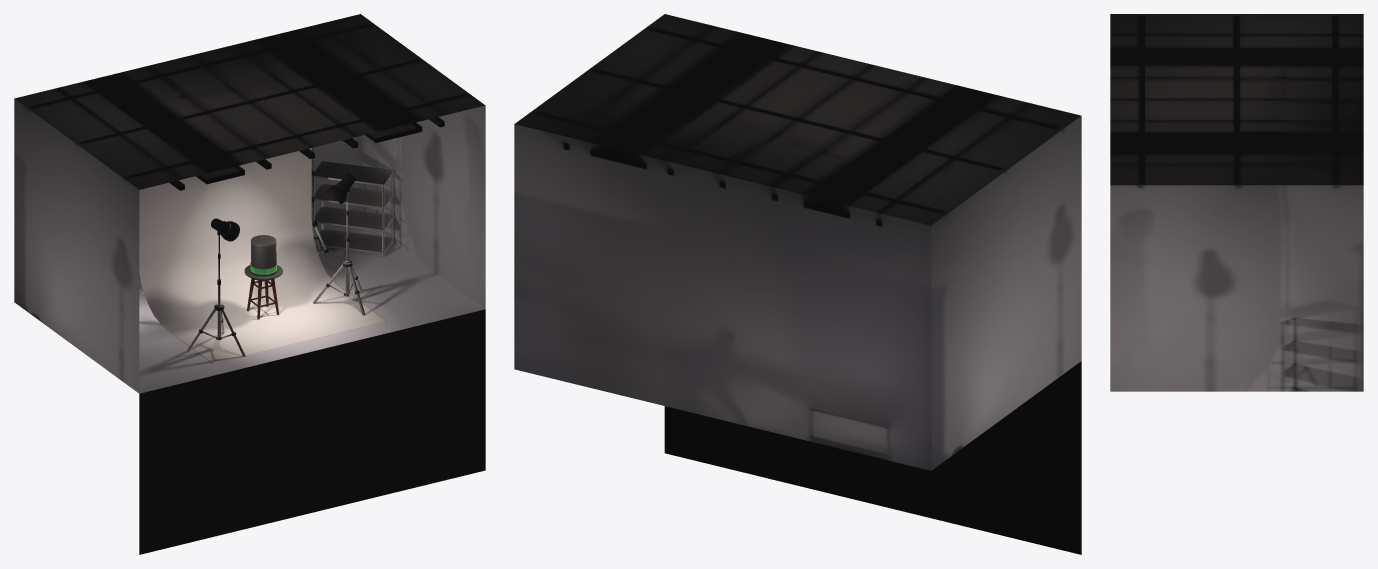
Rendered from hero classic.glb.
3 renders of one model, left to right at view 1: azimuth 30°, elevation 25°; view 2: azimuth 150°, elevation 25°; view 3: azimuth 270°, elevation 25°, orthographic. The views are drawn at different scales.
Visible parts, largest first — view 1: Baked Potato; view 2: Baked Potato; view 3: Baked Potato.
Boxes of the visible parts, box(x1,y1,x2,y2) form: Baked Potato: box(14, 14, 485, 554); Baked Potato: box(514, 14, 1081, 554); Baked Potato: box(1110, 14, 1363, 391).
Size of the model in its own units: 3.2 by 3.22 by 2.
Materials: 1 (1 with a texture image).
